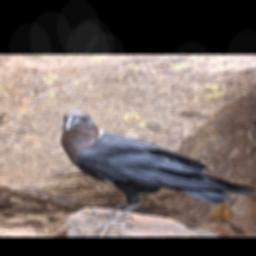Crow: (60, 110, 256, 236)
